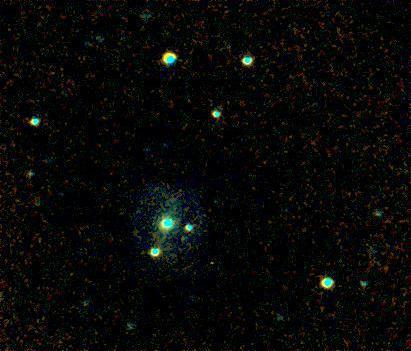star: (165, 225, 195, 255)
